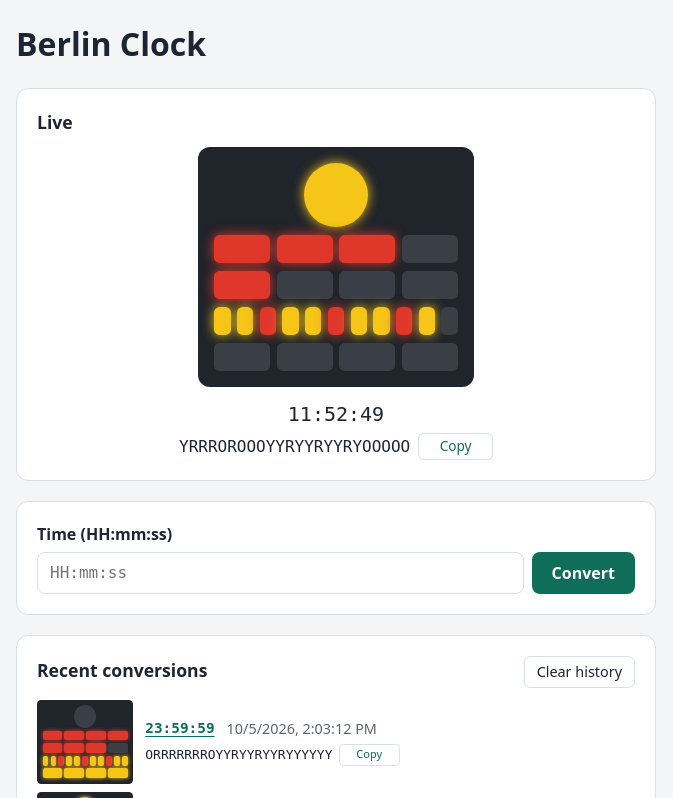
it: Revisiting a conversion › opens a conversion from the history in the result panel, without converting it again
The image size is (673, 798).
Step 1. Click the link "23:59:59" → (180,729), box [145,718,215,740]
(page scrolled)
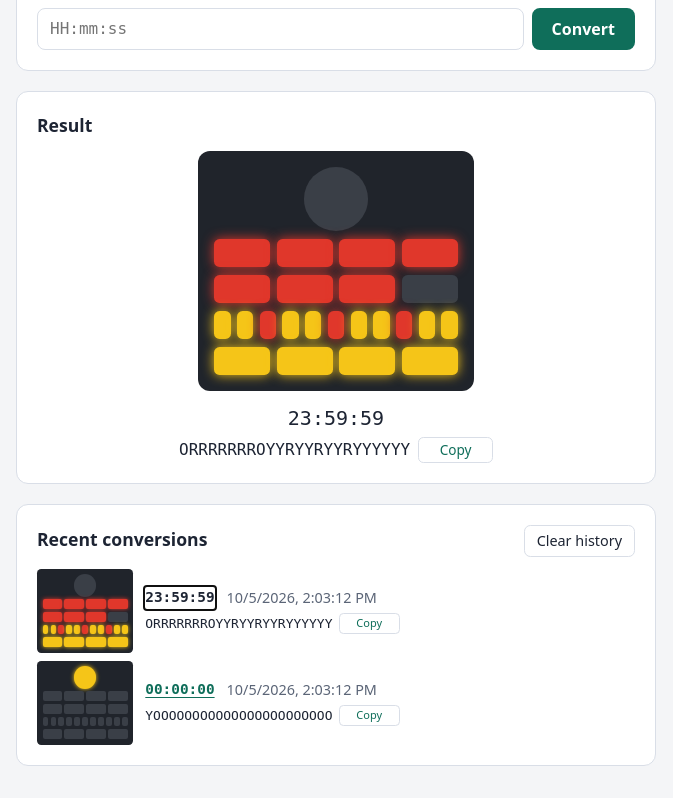
Expected: the number of list items is 2, [37,569,400,653]; [37,661,400,745]
Now the picture named "Berlin Clock showing 23:59:59" below "Result" is shown, box [198,151,474,391]
Now the text "ORRRRRRROYYRYYRYYRYYYYYY" below "Result" is shown, box [179,440,410,459]
